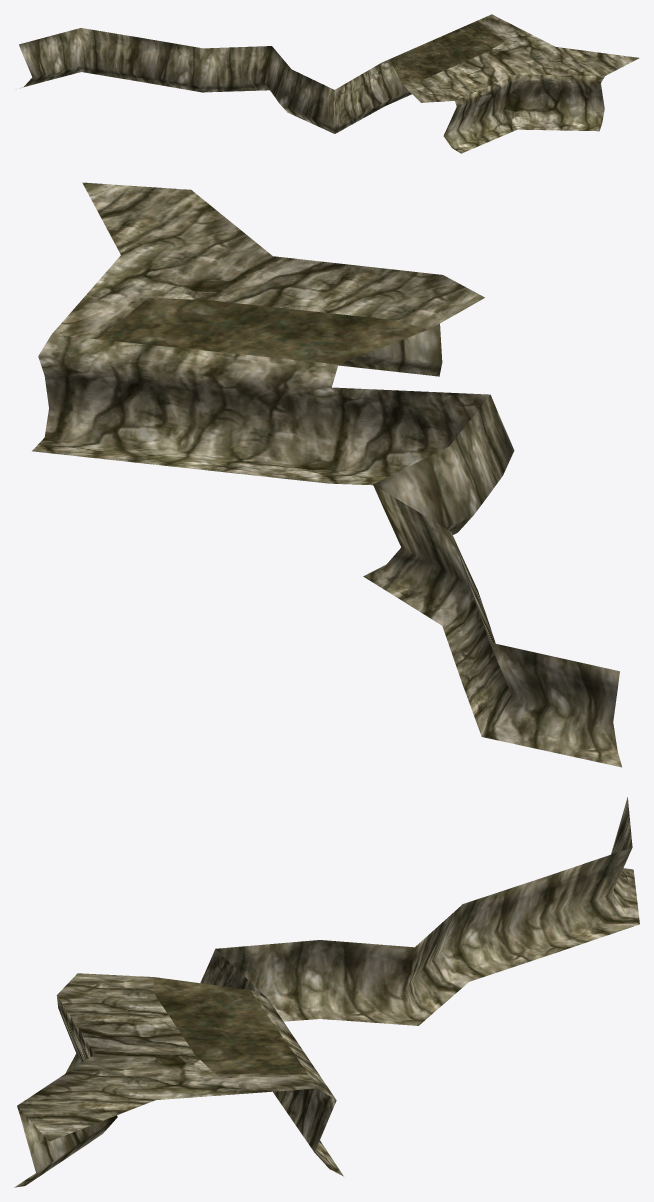
The model's file is CB_NEWPLAYSURFACE_CB_PLAYSURFACE104.fbx.
3 renders of one model, top to bottom at view 1: azimuth 30°, elevation 25°; view 2: azimuth 150°, elevation 25°; view 3: azimuth 270°, elevation 25°, orthographic. The views are drawn at different scales.
Visible parts, largest first — view 1: CB_NEWPLAYSURFACE_CB_PLAYSURFACE104; view 2: CB_NEWPLAYSURFACE_CB_PLAYSURFACE104; view 3: CB_NEWPLAYSURFACE_CB_PLAYSURFACE104.
Boxes of the visible parts, x1,y1,x2,y2 form: CB_NEWPLAYSURFACE_CB_PLAYSURFACE104: (19,14,639,153); CB_NEWPLAYSURFACE_CB_PLAYSURFACE104: (32,182,621,767); CB_NEWPLAYSURFACE_CB_PLAYSURFACE104: (14,797,639,1187).
Bounding box in the file's own units: 313335 × 35371 × 230920.
Materials: 3 (3 with a texture image).
